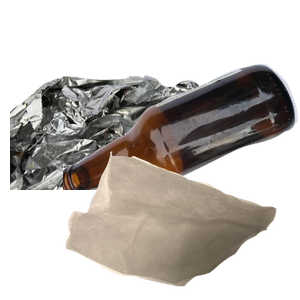glass: (63, 62, 300, 242)
metal: (10, 73, 212, 253)
plastic: (86, 163, 282, 300)
trash: (63, 149, 300, 300)
